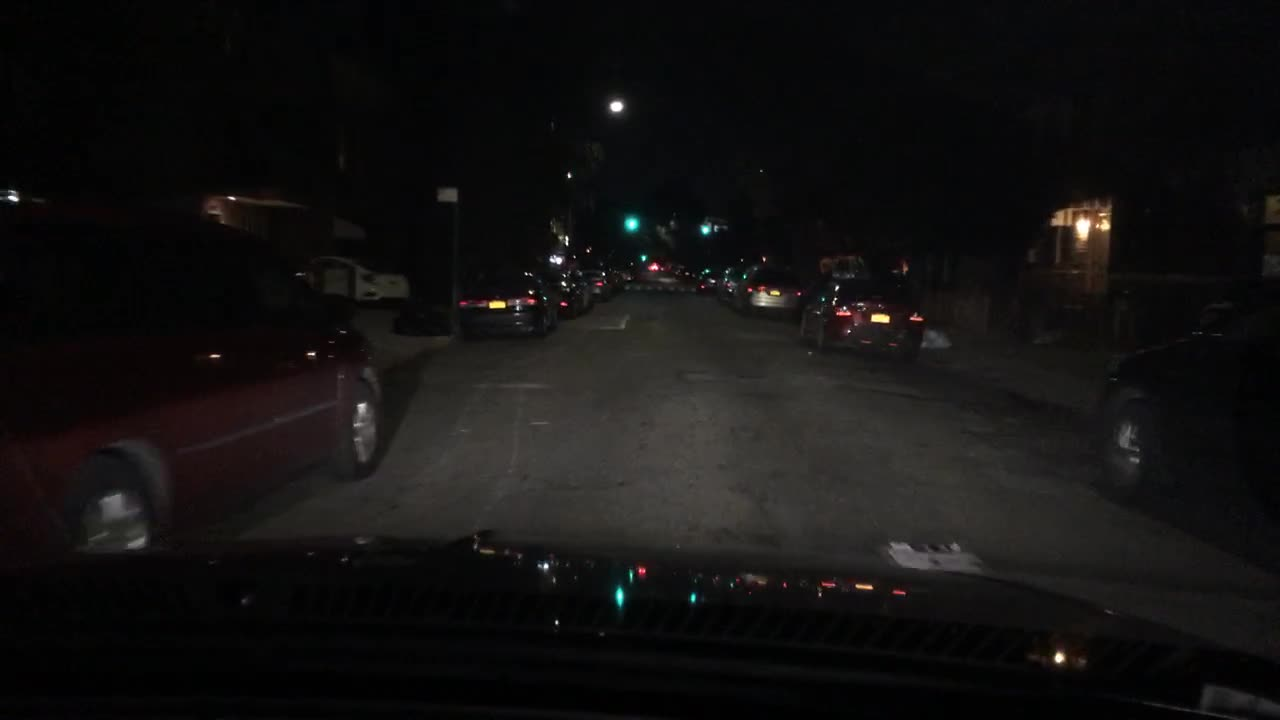car: (0, 198, 390, 556), (1094, 281, 1278, 540), (798, 271, 922, 359), (458, 265, 559, 338), (305, 249, 409, 310), (730, 261, 821, 321), (556, 269, 592, 319), (721, 263, 752, 300), (587, 267, 612, 305), (697, 266, 721, 293), (674, 265, 698, 282), (610, 272, 627, 291), (646, 260, 669, 272), (624, 266, 637, 281)
traffic light: (624, 214, 637, 232), (702, 225, 709, 235)
traffic sign: (435, 186, 458, 203)
